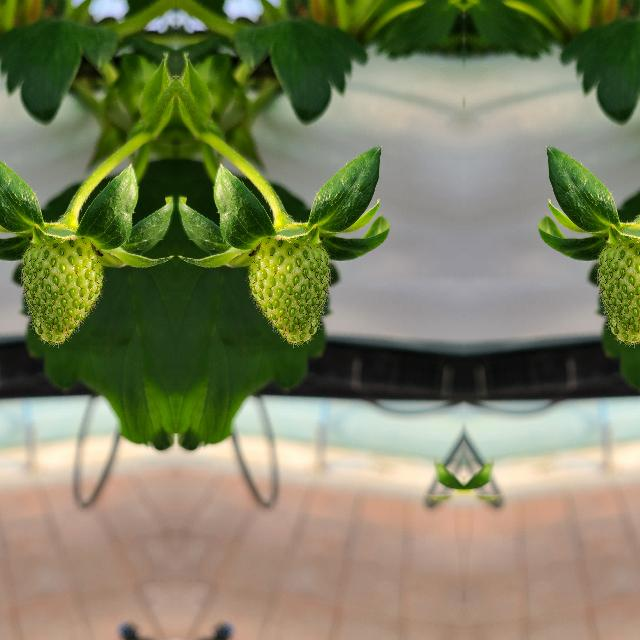Health_25: (248, 238, 330, 342), (20, 238, 102, 342), (596, 238, 640, 342)
